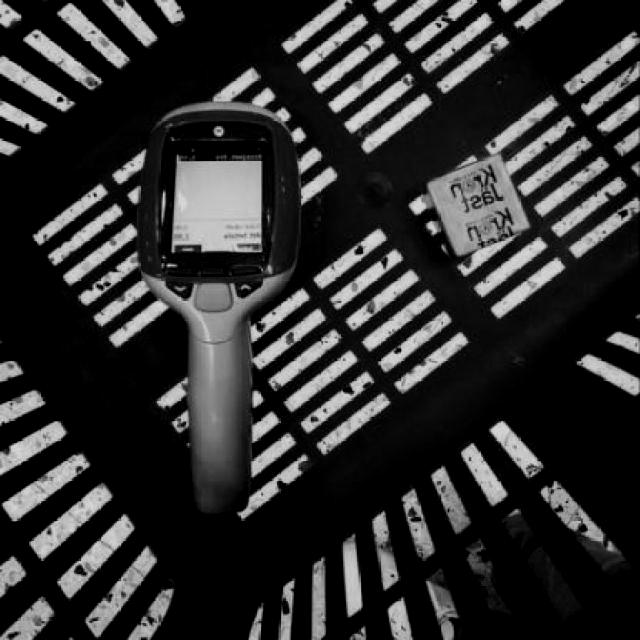fake: (151, 122, 271, 278)
